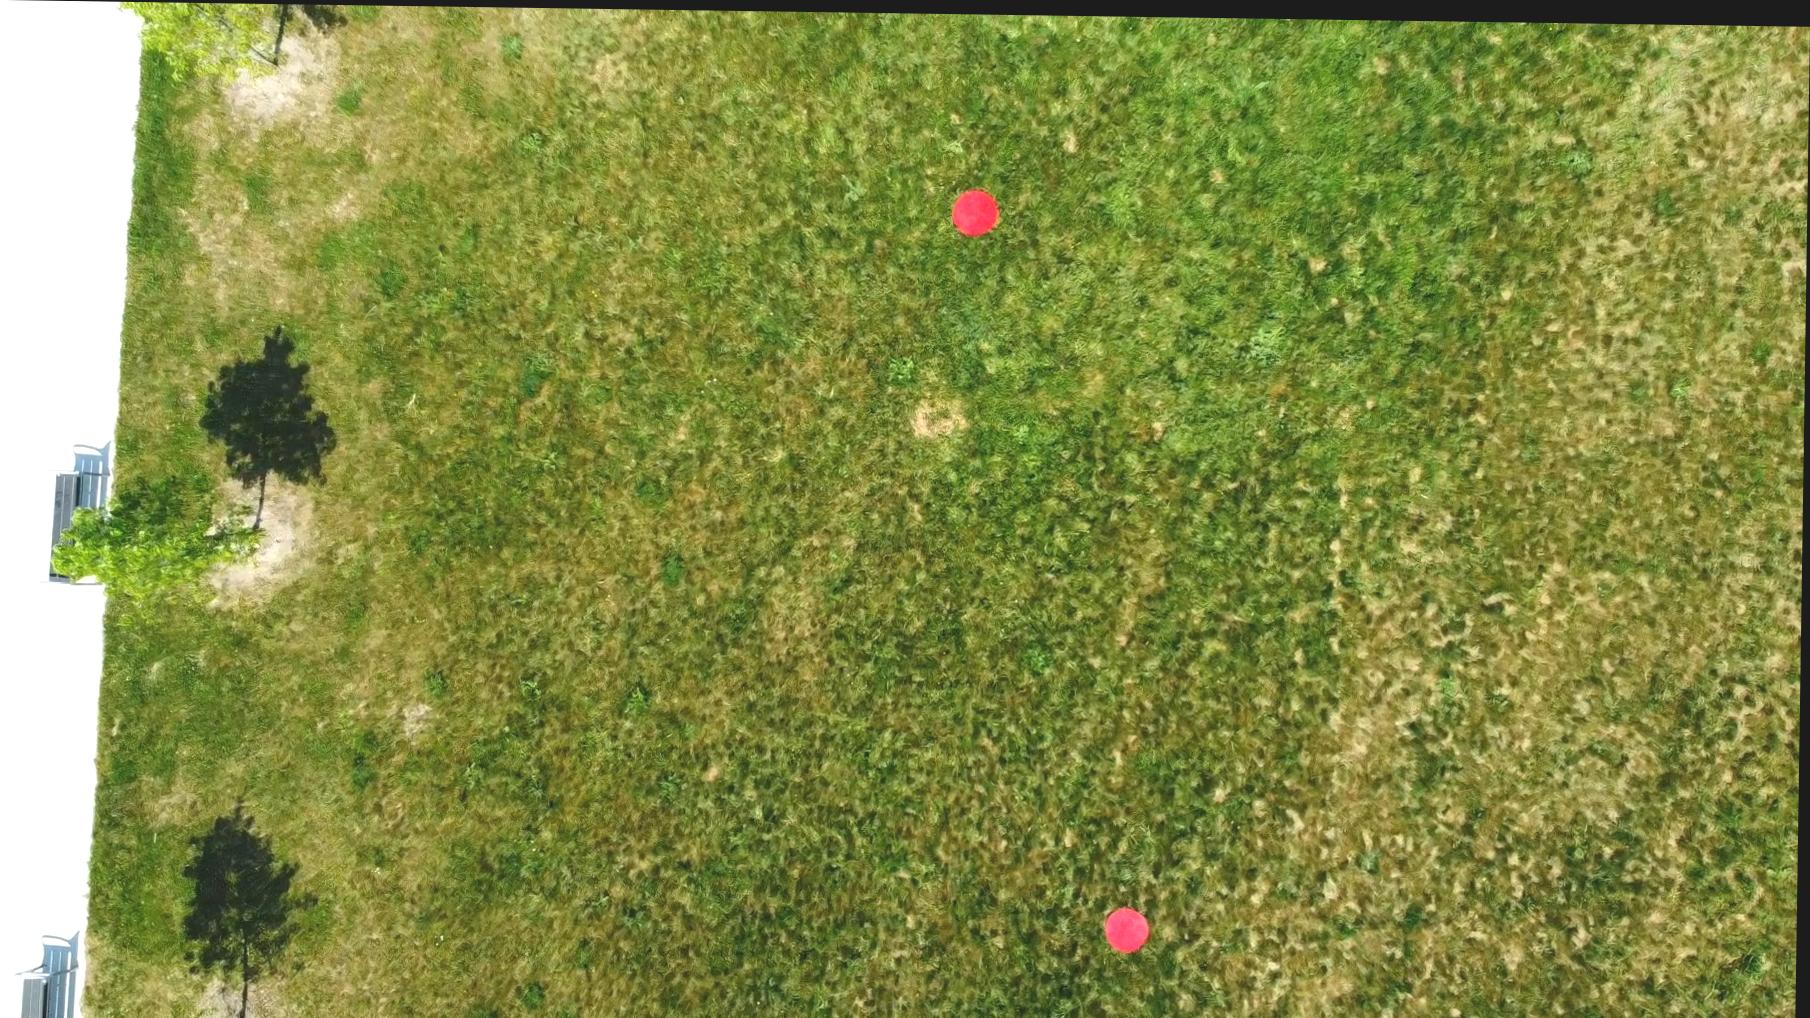Red: (951, 185, 1003, 236), (1105, 901, 1155, 953)
